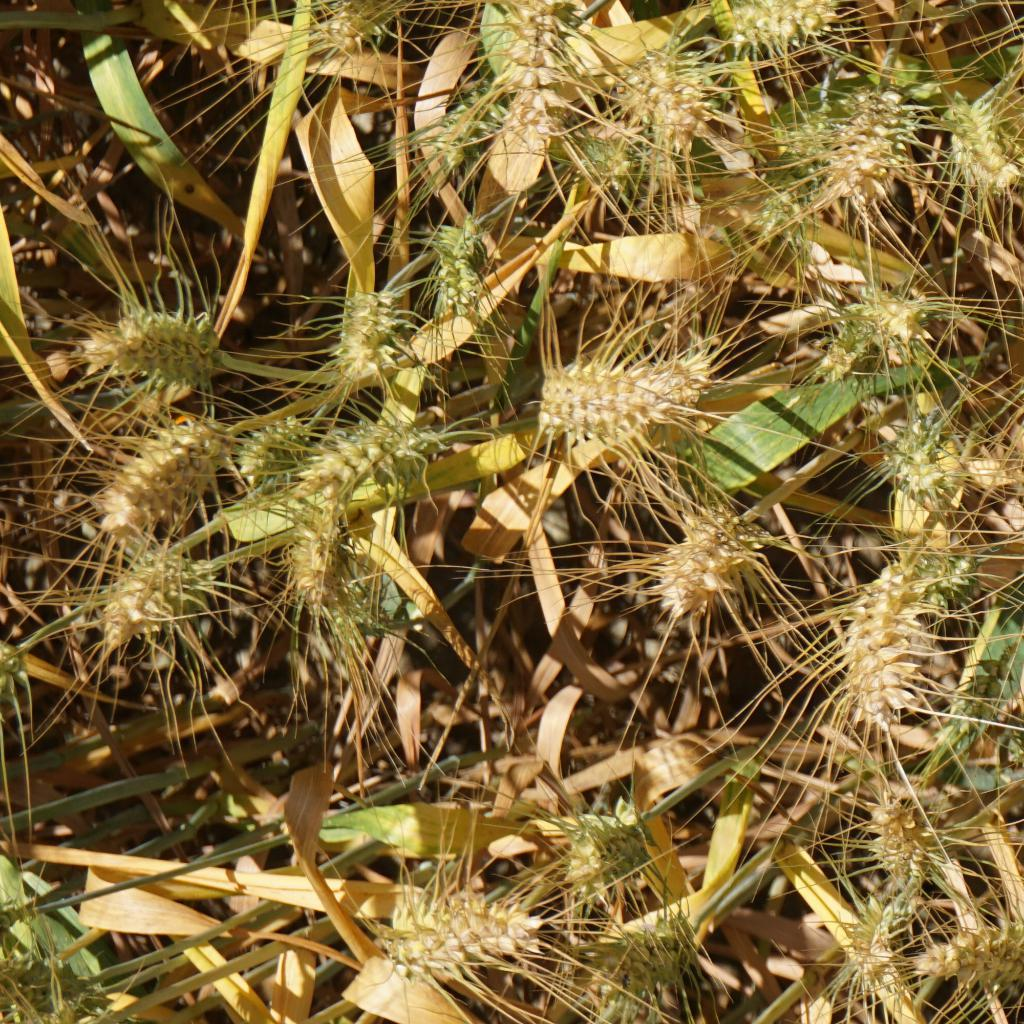0-0: (93, 403, 249, 544), (44, 289, 241, 390), (374, 881, 569, 978), (94, 542, 240, 658), (644, 492, 768, 627), (835, 570, 934, 739), (494, 0, 590, 154), (422, 73, 513, 188), (571, 120, 683, 208), (823, 273, 932, 363), (638, 55, 729, 161), (539, 795, 650, 881), (528, 359, 653, 435), (847, 899, 926, 1017), (323, 286, 414, 388), (281, 496, 362, 608), (615, 343, 726, 422), (826, 81, 899, 201), (590, 924, 701, 998), (947, 649, 1020, 760), (939, 909, 1024, 1003), (425, 218, 497, 327), (320, 0, 435, 65), (867, 787, 942, 886), (936, 94, 1017, 185), (305, 577, 403, 649), (293, 425, 397, 492), (778, 110, 847, 197), (885, 415, 956, 497), (233, 418, 313, 484), (909, 543, 983, 609), (726, 0, 844, 40), (751, 186, 809, 262), (995, 691, 1024, 777)
